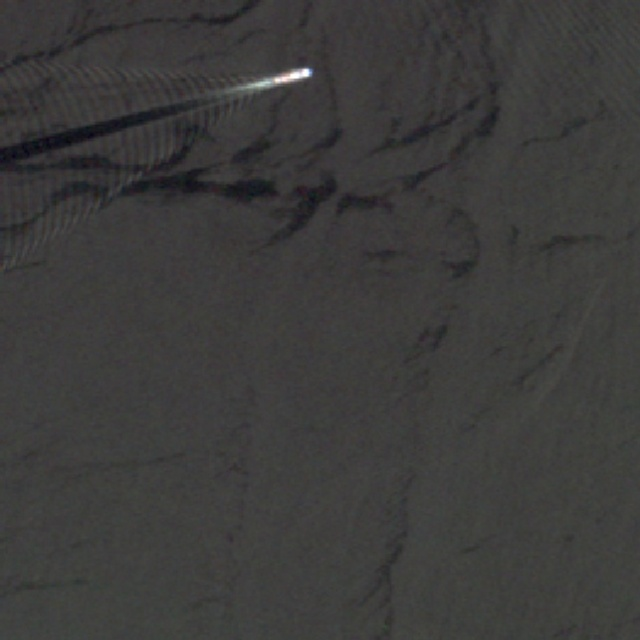wake: (95, 14, 337, 177)
